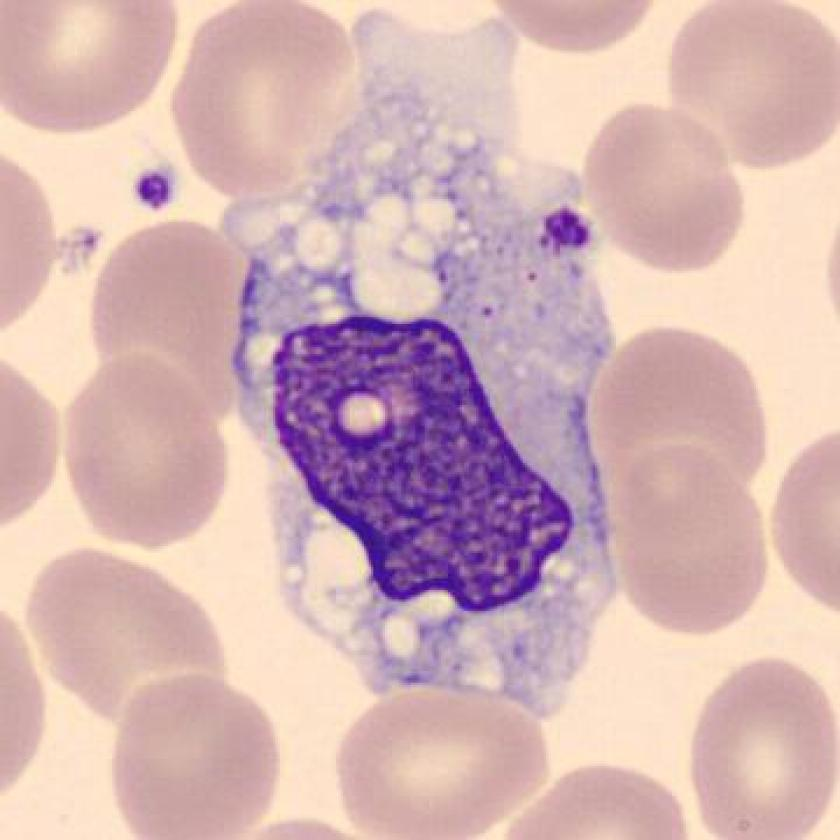monocyte: (211, 1, 643, 730)
